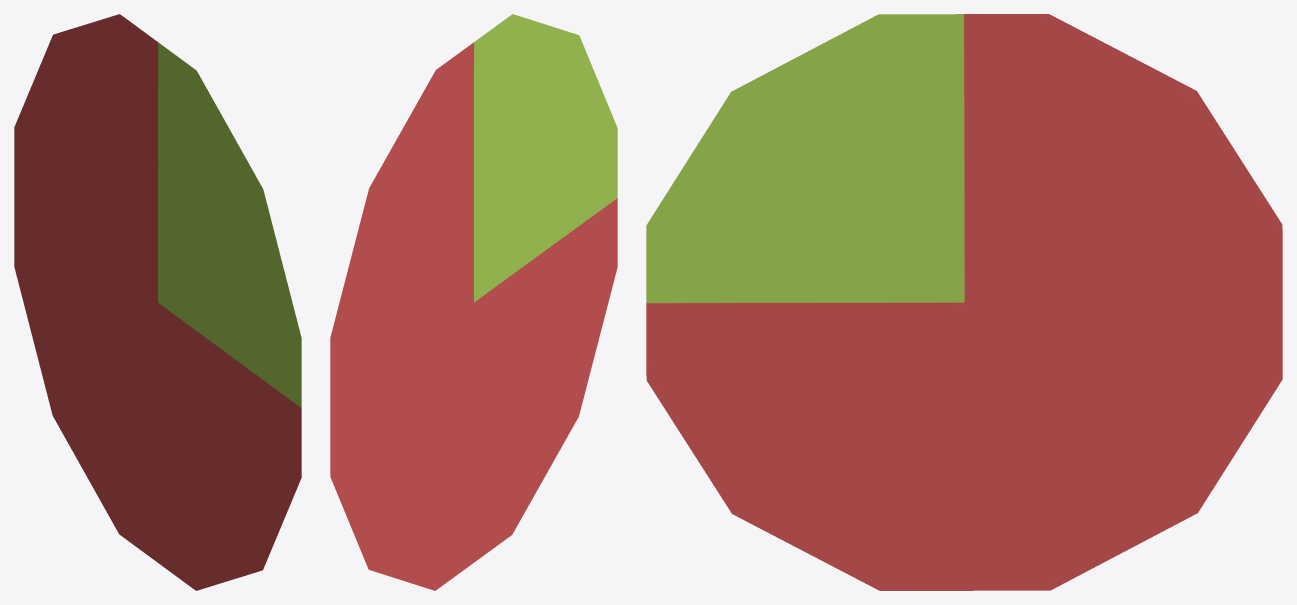
File: reel_side.glb
The picture shows the model from 3 angles, left to right: view 1: azimuth 30°, elevation 25°; view 2: azimuth 150°, elevation 25°; view 3: azimuth 270°, elevation 25°; orthographic projection. The views are drawn at different scales.
Visible parts, largest first — view 1: Reel_side; view 2: Reel_side; view 3: Reel_side.
Boxes of the visible parts, x1,y1,x2,y2 form: Reel_side: (14,14,301,590); Reel_side: (330,14,617,590); Reel_side: (646,14,1282,590).
Size of the model in its own units: 5.96e-08 by 1 by 1.
Materials: 1 (1 with a texture image).
